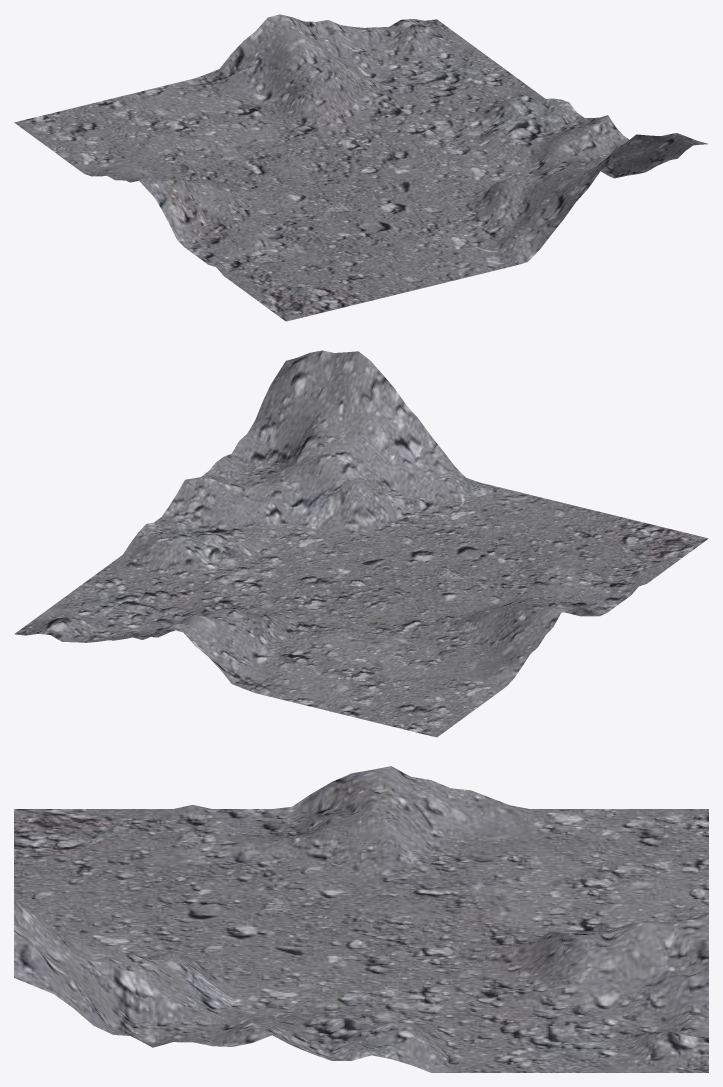
File: moonSCENE2.FBX
3 renders of one model, top to bottom at view 1: azimuth 30°, elevation 25°; view 2: azimuth 150°, elevation 25°; view 3: azimuth 270°, elevation 25°, orthographic. The views are drawn at different scales.
Parts seen in each view (by area): view 1: Plane001; view 2: Plane001; view 3: Plane001.
Boxes of the visible parts, x1,y1,x2,y2 form: Plane001: (14,14,707,321); Plane001: (14,350,708,737); Plane001: (14,766,708,1072).
Size of the model in its own units: 109 by 25.12 by 122.
